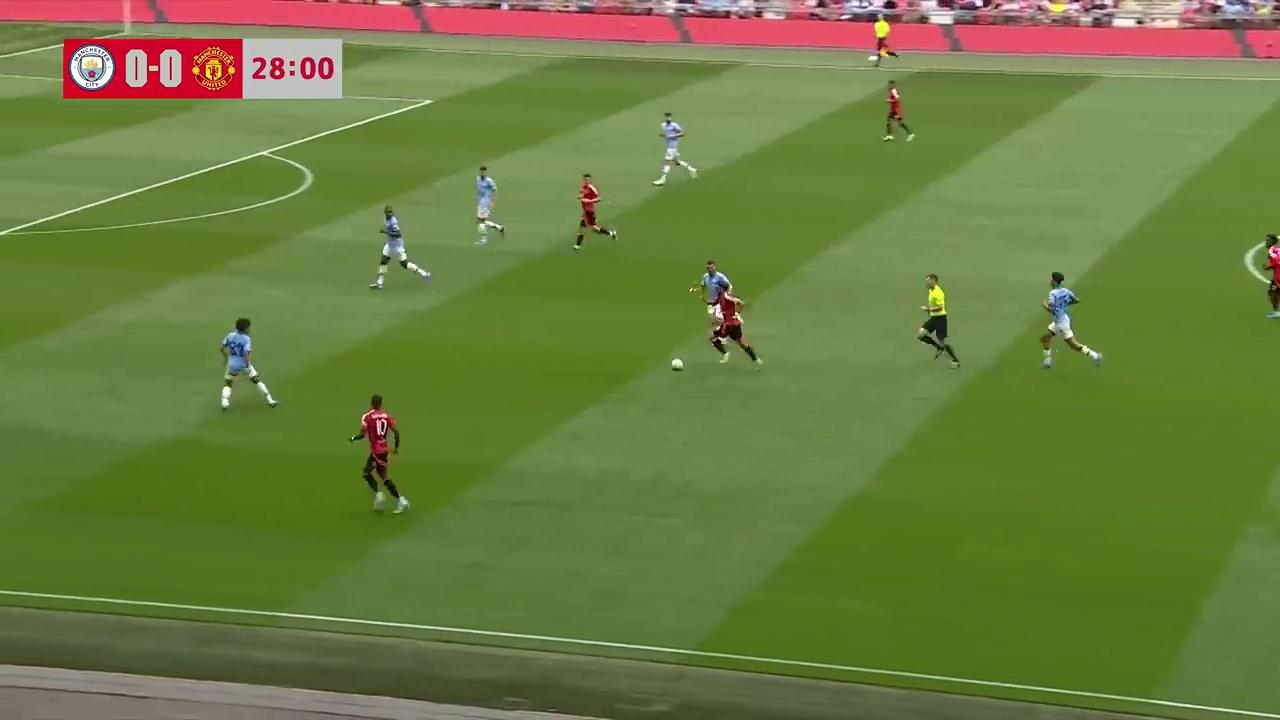ball: (670, 352, 685, 372)
player: (349, 394, 410, 513), (1040, 271, 1101, 368), (218, 318, 278, 411), (370, 205, 429, 289), (708, 292, 762, 370), (571, 173, 618, 251), (651, 111, 698, 186), (688, 260, 729, 333), (1247, 233, 1280, 319), (473, 164, 505, 245), (881, 80, 915, 142)
referee: (917, 273, 959, 368), (870, 16, 894, 67)
